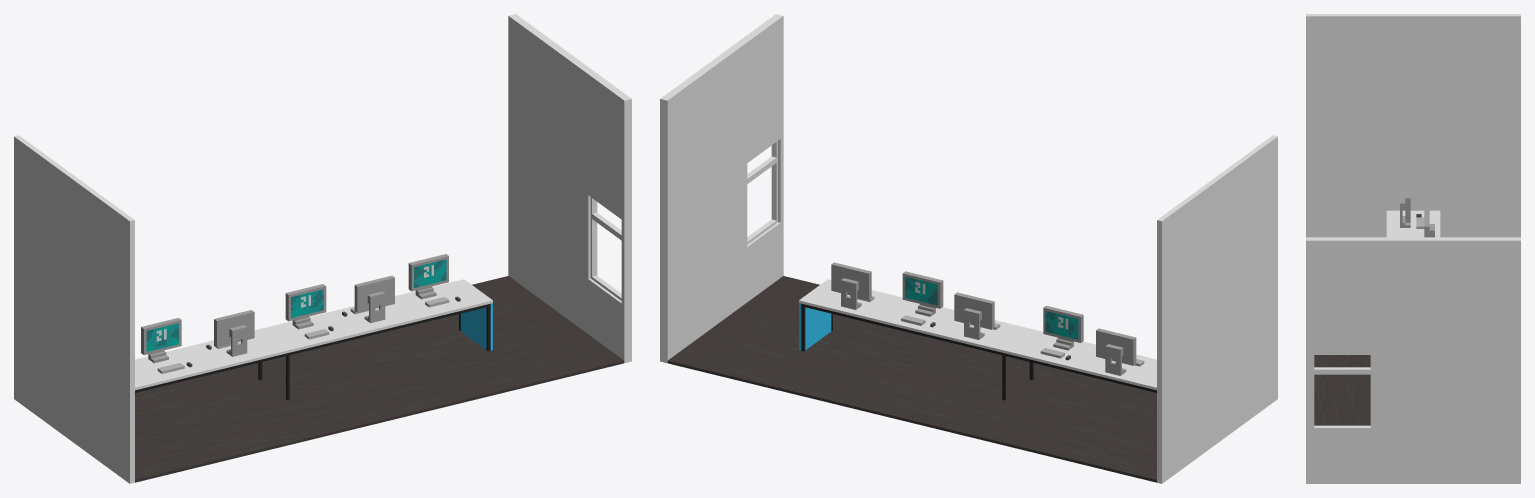
Rendered from LeftTable.obj.
3 renders of one model, left to right at view 1: azimuth 30°, elevation 25°; view 2: azimuth 150°, elevation 25°; view 3: azimuth 270°, elevation 25°, orthographic. The views are drawn at different scales.
Size of the model in its own units: 20 by 10 by 8.
Materials: 1 (1 with a texture image).
